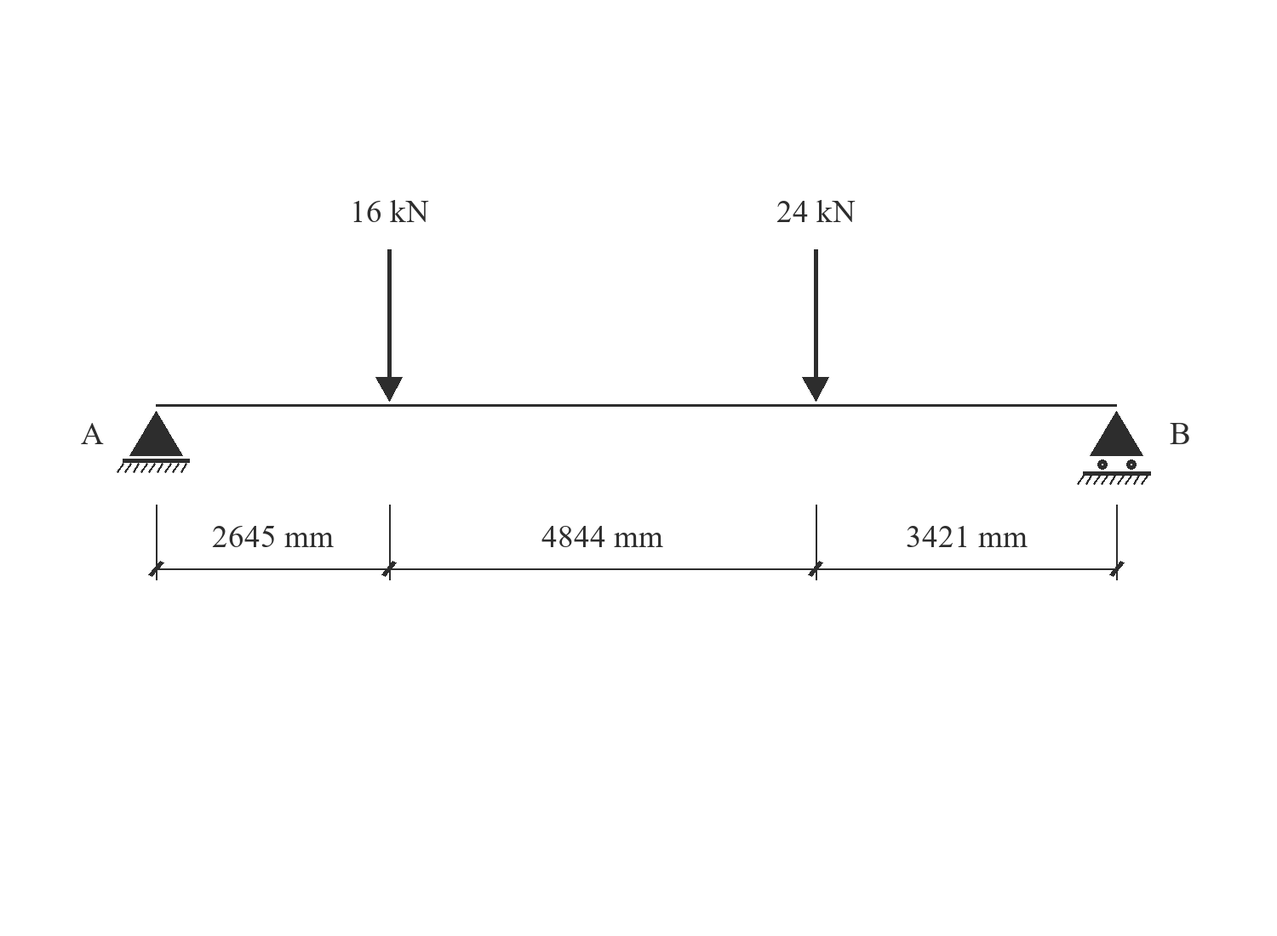pin_support: (117, 411, 190, 473)
point_load: (375, 249, 403, 402), (802, 249, 829, 402)
roller_support: (1077, 411, 1151, 485)
